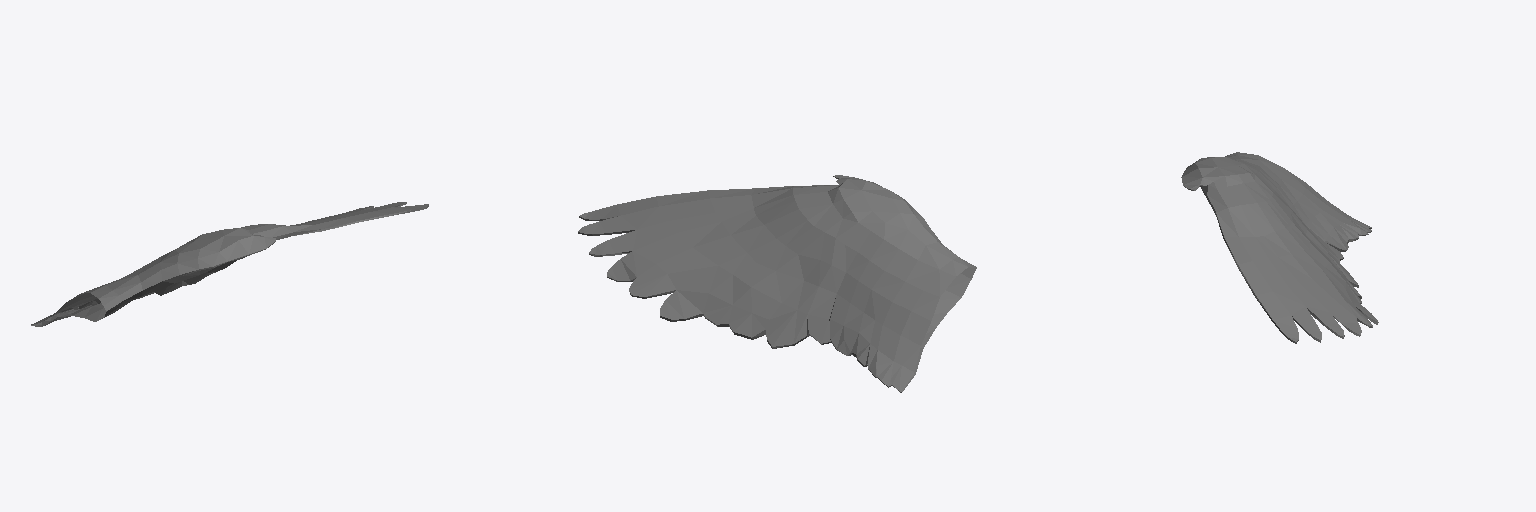
Rendered from AlaIzq.obj.
3 renders of one model, left to right at view 1: azimuth 30°, elevation 25°; view 2: azimuth 150°, elevation 25°; view 3: azimuth 270°, elevation 25°, orthographic.
Visible parts, largest first — view 1: Falcon; view 2: Falcon; view 3: Falcon.
Boxes of the visible parts, <box> form: Falcon: <box>31,202,428,326</box>; Falcon: <box>578,175,976,392</box>; Falcon: <box>1181,152,1378,343</box>.
Bounding box in the file's own units: 1.59 × 0.5024 × 0.7519.